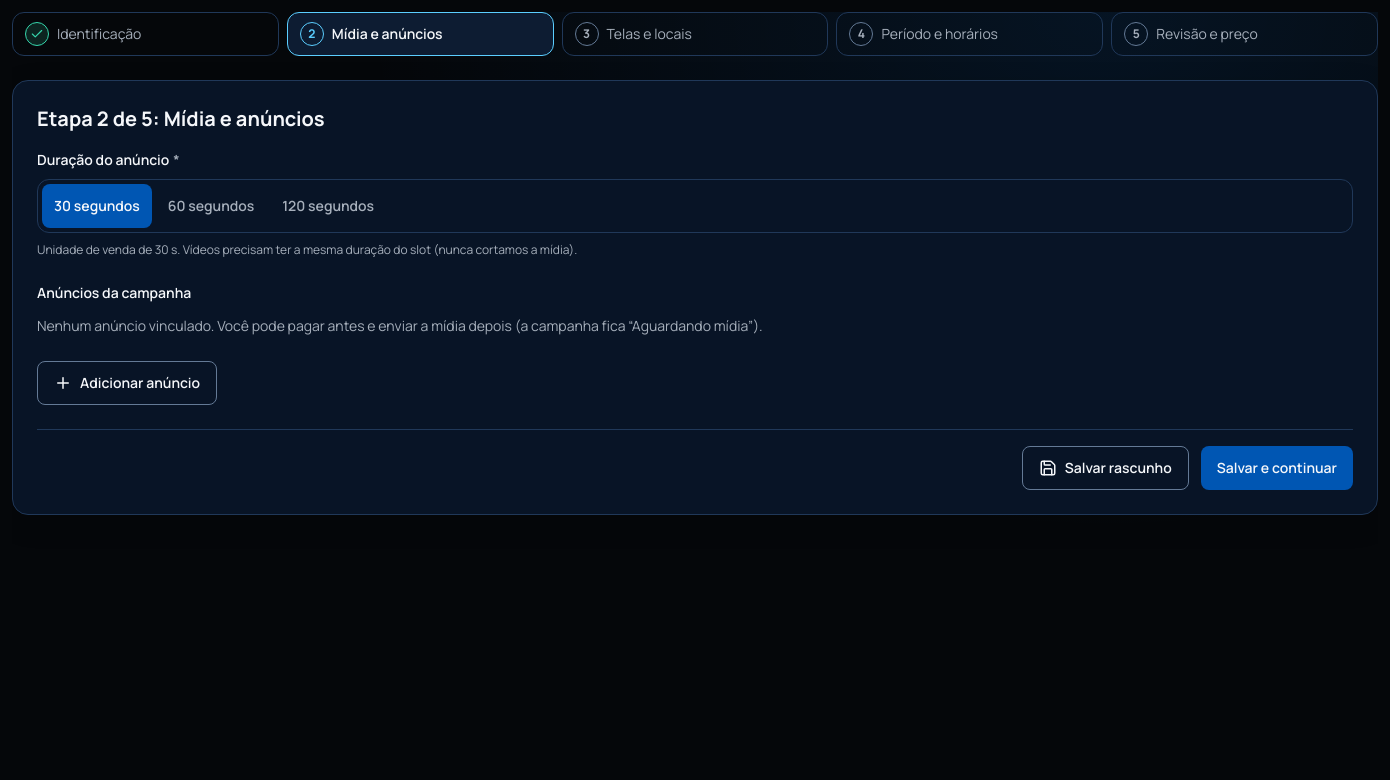
Test case: duração do anúncio: 30, 60 ou 120 s › erro DURATION_NOT_ALLOWED do servidor aparece junto ao campo de duração
Step 1. Click the radio button "60 segundos" → x=211, y=206, box [156,184,266,228]
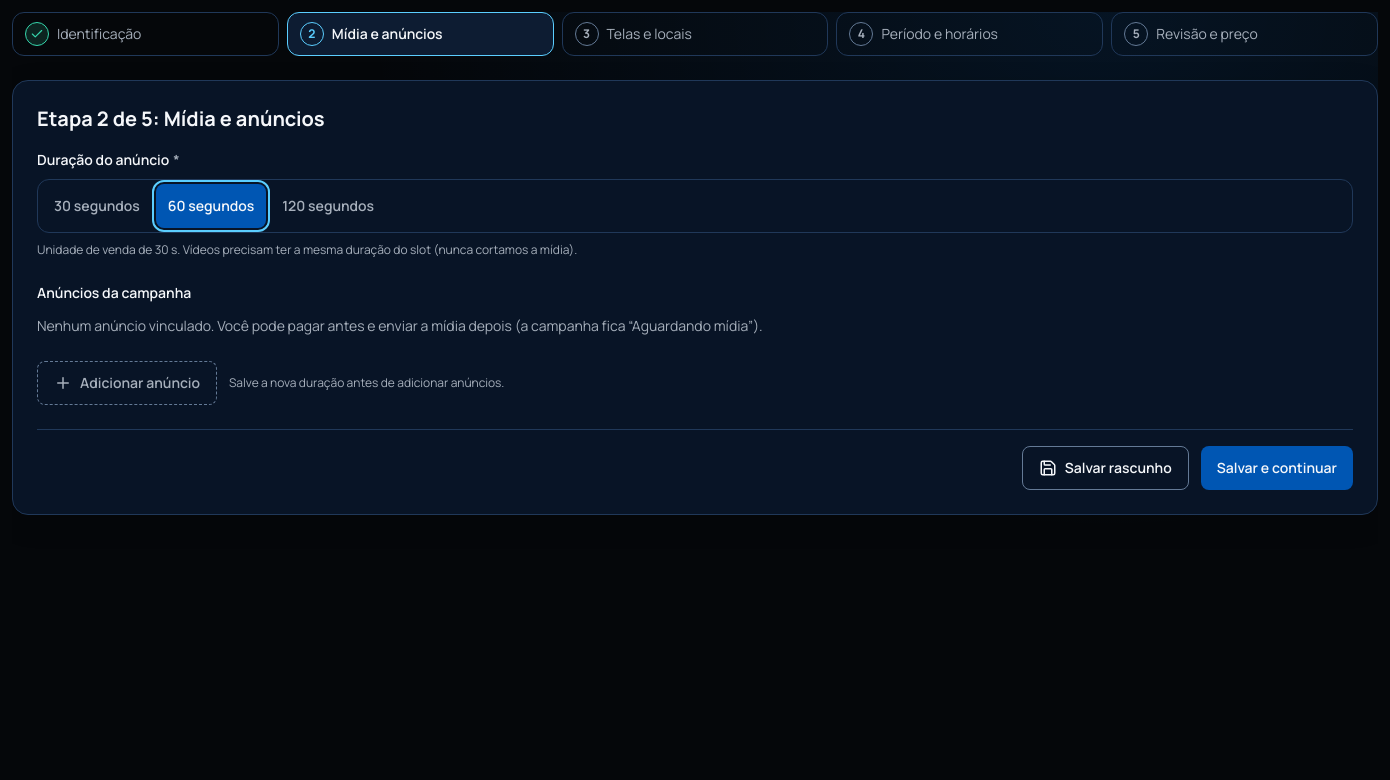
Step 2. Click the button "Salvar rascunho" → x=1105, y=468, box [1022,446,1189,490]
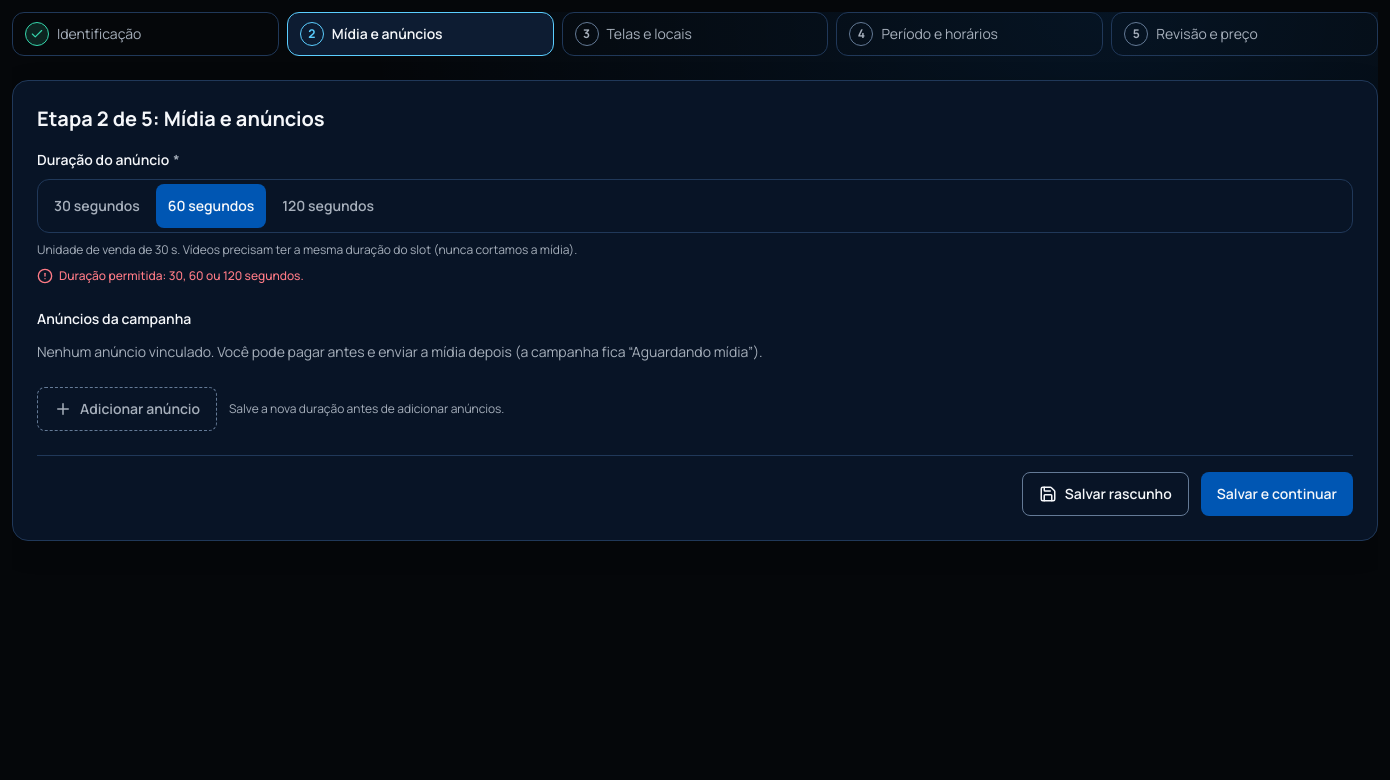
Expected: the text "Duração permitida: 30, 60 ou 120 segundos." is shown, [59,267,304,284]
